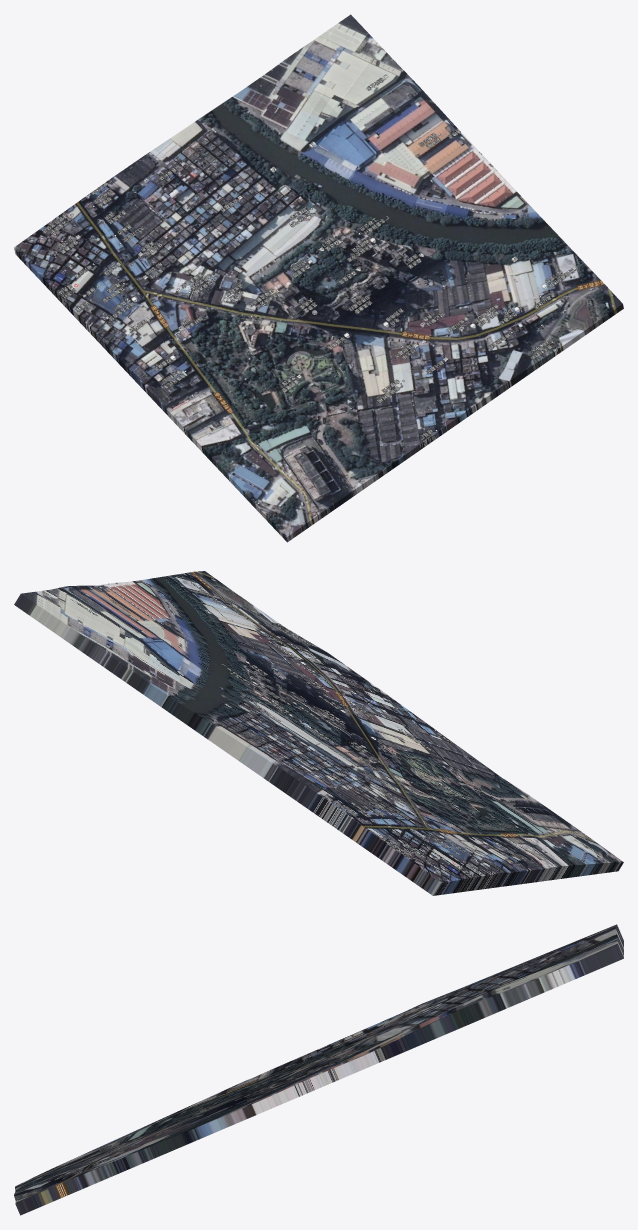
3 views of the same model, one above another, from view 1: azimuth 30°, elevation 25°; view 2: azimuth 150°, elevation 25°; view 3: azimuth 270°, elevation 25° (orthographic). The views are drawn at different scales.
Visible parts, largest first — view 1: 0_20_20; view 2: 0_20_20; view 3: 0_20_20.
Boxes of the visible parts, x1,y1,x2,y2 form: 0_20_20: (14,14,623,542); 0_20_20: (14,571,623,895); 0_20_20: (14,924,623,1215).
Bounding box in the file's own units: 598 × 440 × 548.
Materials: 1 (1 with a texture image).
